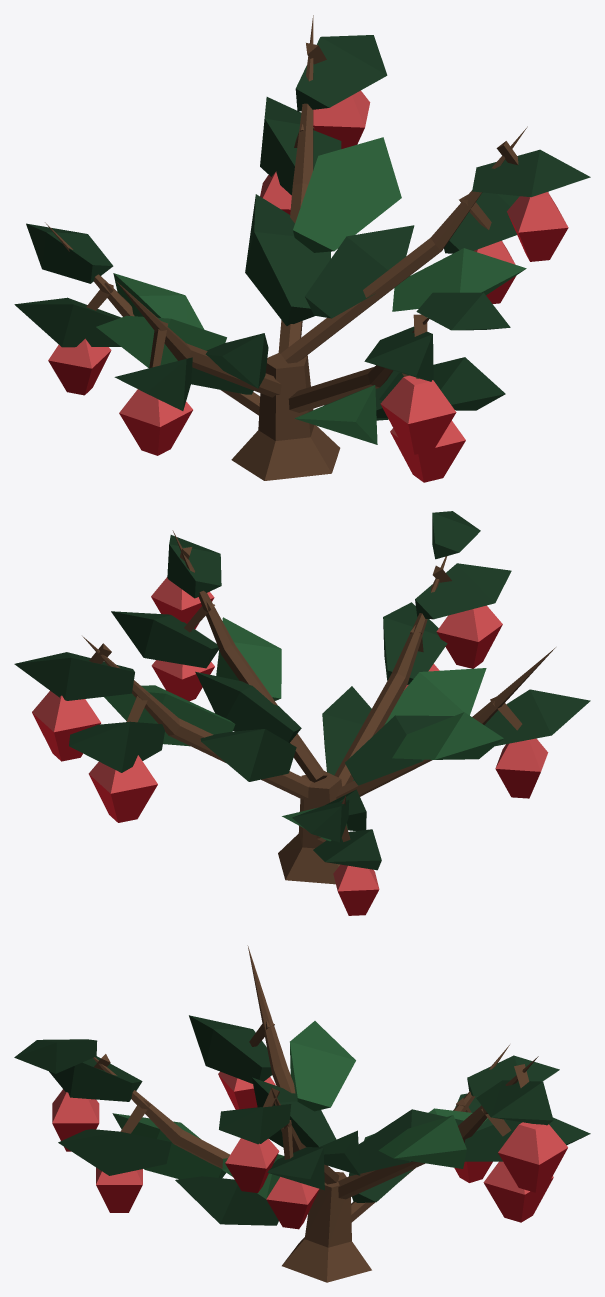
The model's file is lingonberry.gltf.
The picture shows the model from 3 angles, top to bottom: view 1: azimuth 30°, elevation 25°; view 2: azimuth 150°, elevation 25°; view 3: azimuth 270°, elevation 25°; orthographic projection. The views are drawn at different scales.
Parts seen in each view (by area): view 1: lingonberry; view 2: lingonberry; view 3: lingonberry.
Boxes of the visible parts, x1=… form: lingonberry: x1=14, y1=15, x2=590, y2=482; lingonberry: x1=14, y1=511, x2=590, y2=915; lingonberry: x1=14, y1=945, x2=590, y2=1282.
Bounding box in the file's own units: 0.1903 × 0.1219 × 0.2359.
